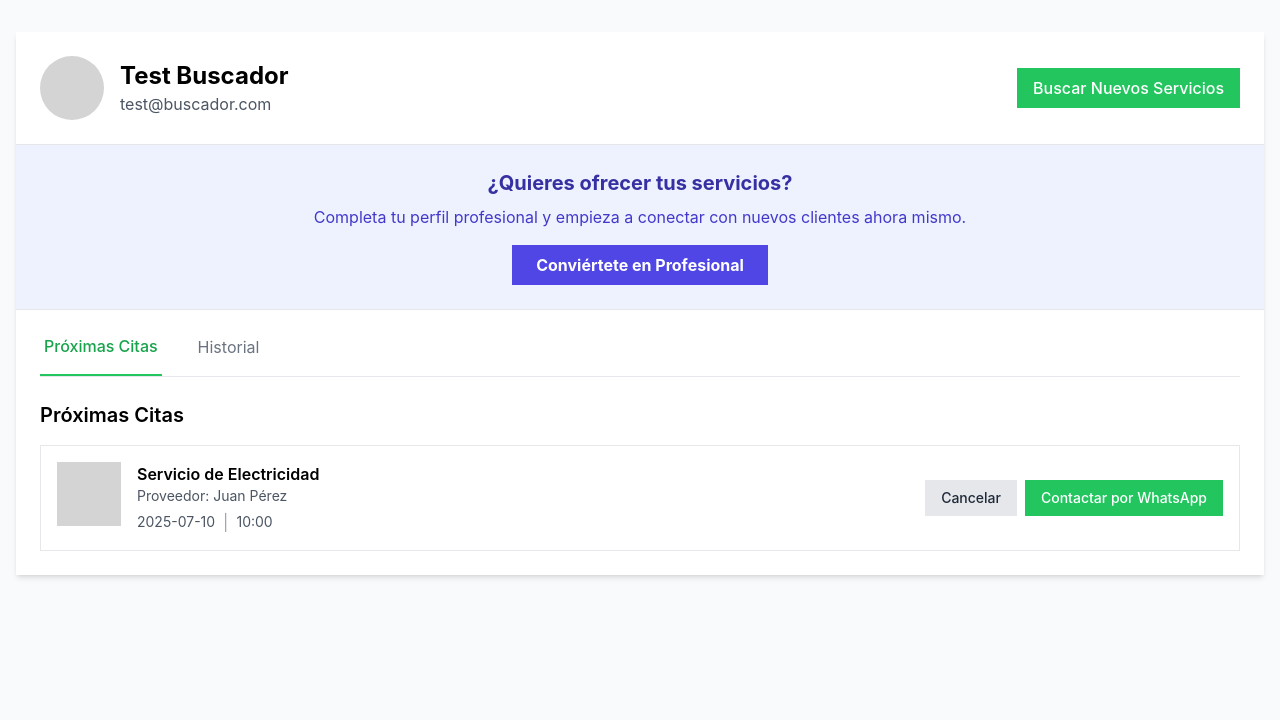
Scenario: UserDashboard › debe cancelar una cita pendiente al hacer clic en el botón "Cancelar"
The width and height of the screenshot is (1280, 720).
Expected: the heading "Servicio de Electricidad" is shown, [137,462,319,486]
Click the button "Cancelar": (971, 498) [925,480,1017,516]
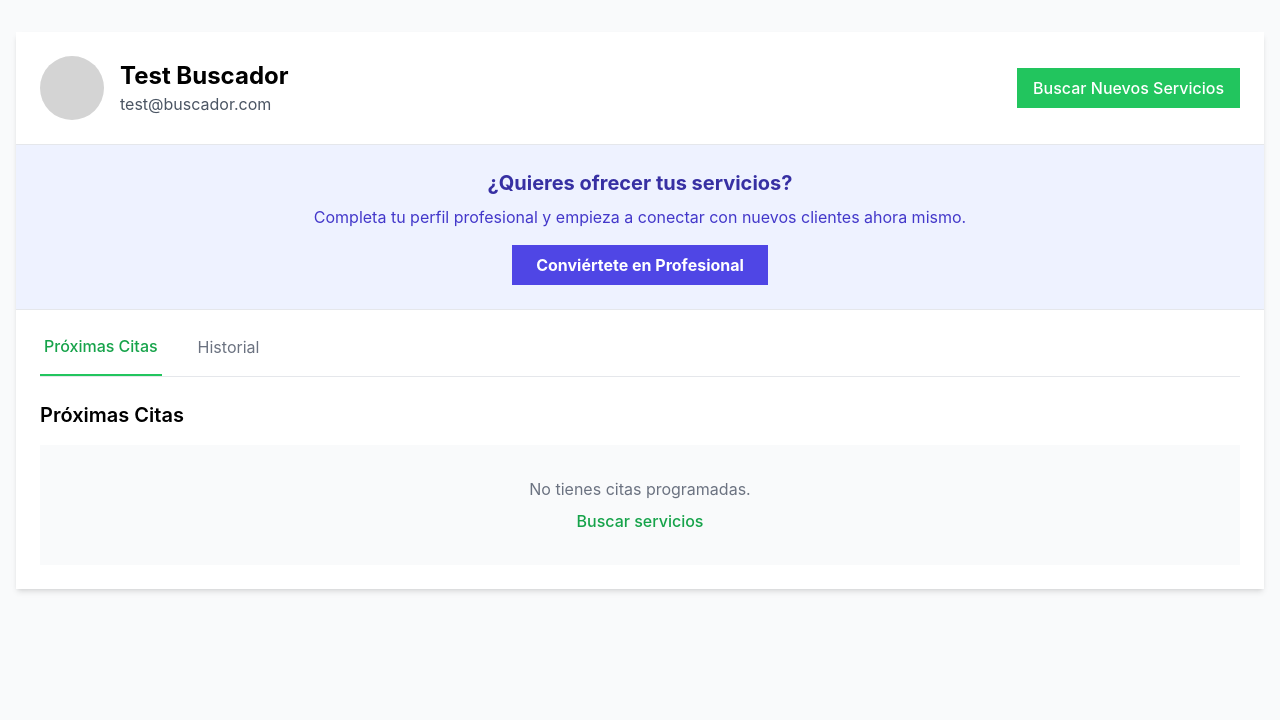
Now the heading "Servicio de Electricidad" is gone
